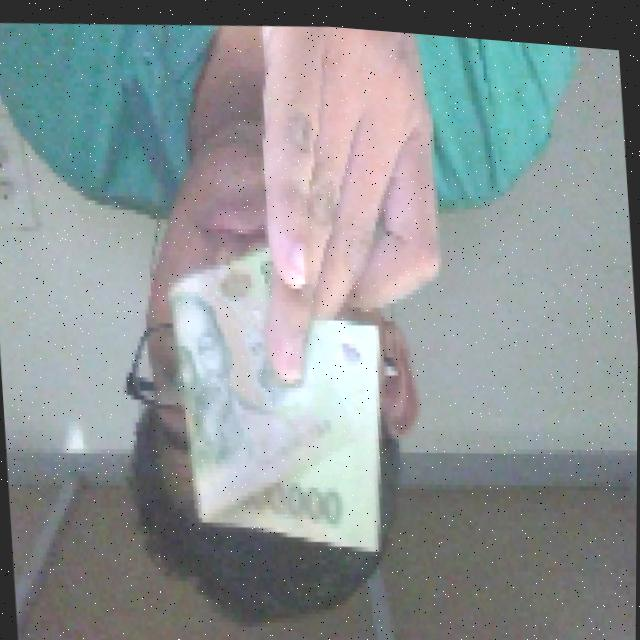100 000 VND: (158, 222, 401, 568)
